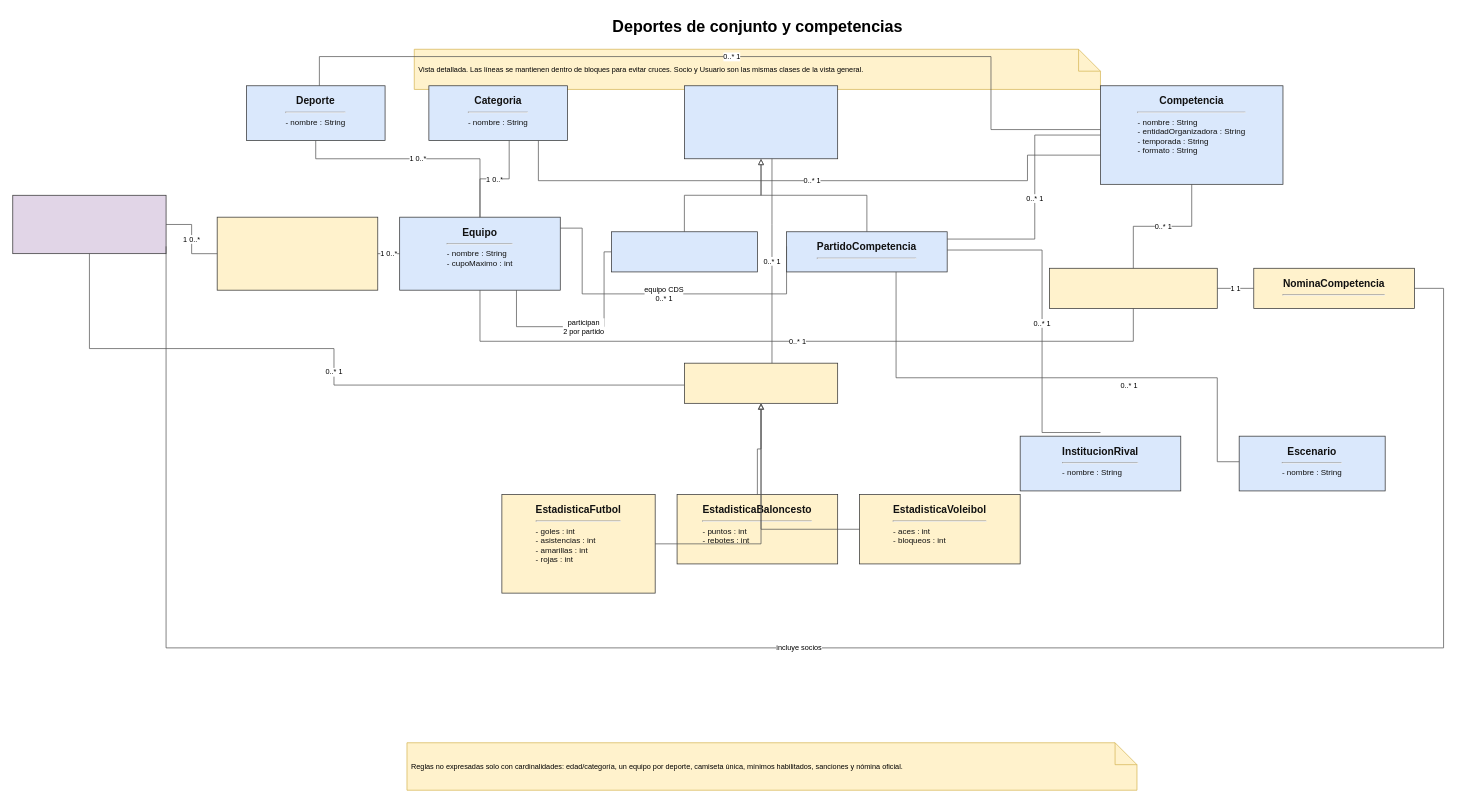
This 1457x803 diagram has some shape labels left out. The box of each missing label's shape, as (x1, y1, x2, y2) in pixels:
EstadisticaJugador: (684, 362, 838, 403)
InscripcionCompetencia: (1049, 268, 1217, 308)
InscripcionEquipo - posicion : String - numeroCamiseta : int: (216, 216, 378, 290)
Partido - fecha : Date - marcador : String: (684, 85, 838, 159)
PartidoInterno: (611, 231, 757, 272)
Socio - fechaNacimiento : Date: (12, 195, 166, 254)
